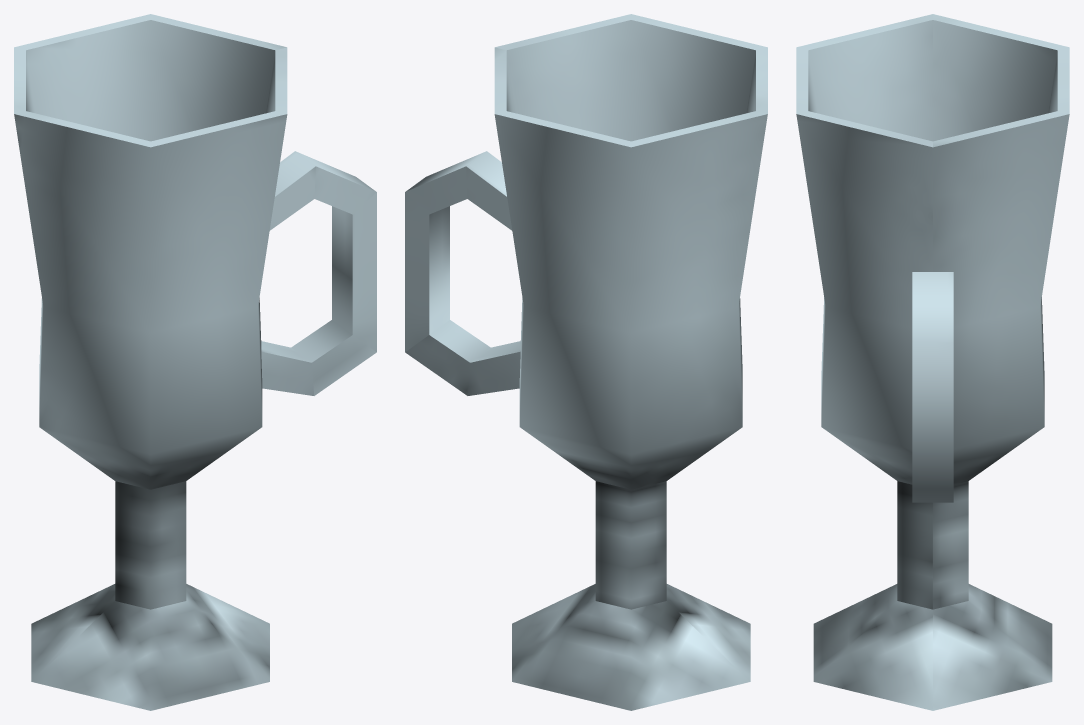
The model's file is EmptyGlassV13.fbx.
3 views of the same model, side by side, from view 1: azimuth 30°, elevation 25°; view 2: azimuth 150°, elevation 25°; view 3: azimuth 270°, elevation 25° (orthographic).
Visible parts, largest first — view 1: Glasses.015; view 2: Glasses.015; view 3: Glasses.015.
Part boxes in pixels (left/top/right/bottom): Glasses.015: left=14, top=14, right=376, bottom=710; Glasses.015: left=405, top=14, right=767, bottom=710; Glasses.015: left=796, top=14, right=1069, bottom=710.
Bounding box in the file's own units: 0.1639 × 0.2543 × 0.1101.
